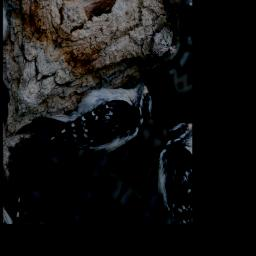Woodpecker: (14, 18, 168, 205)
